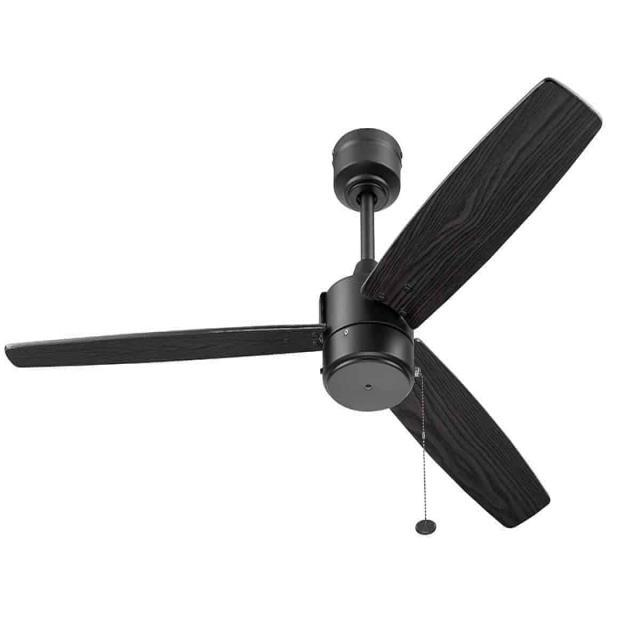fan: (7, 70, 606, 550)
